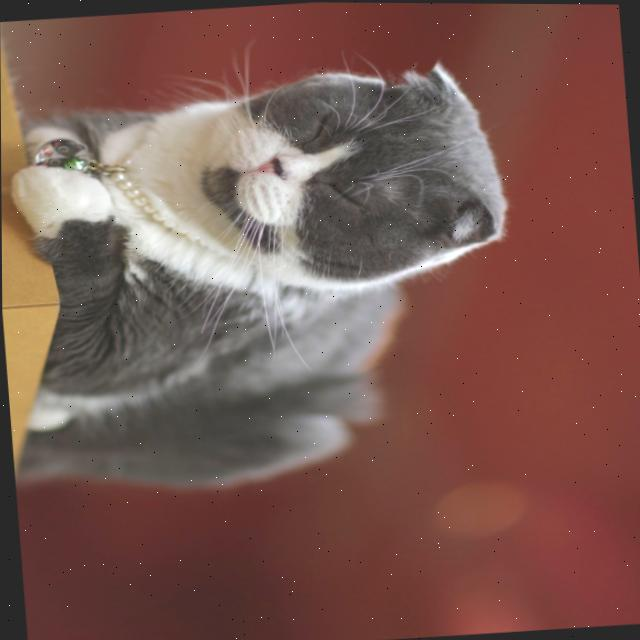Scottish Fold: (0, 50, 530, 504)
